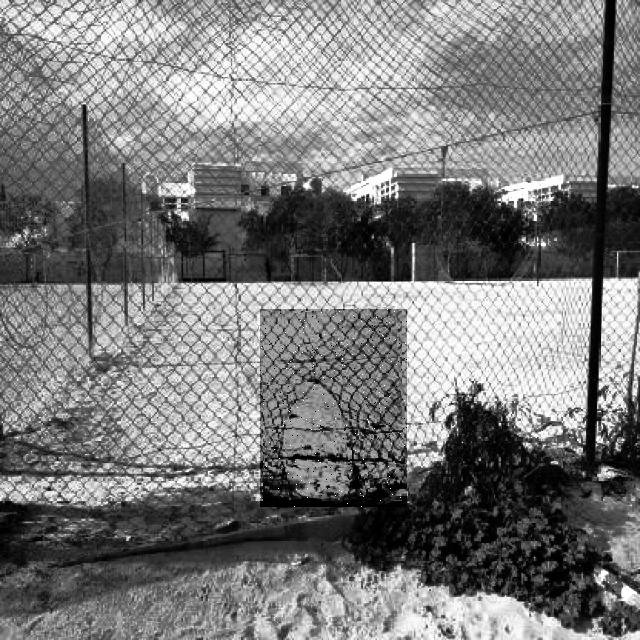anomaly-fence: (260, 309, 407, 507)
